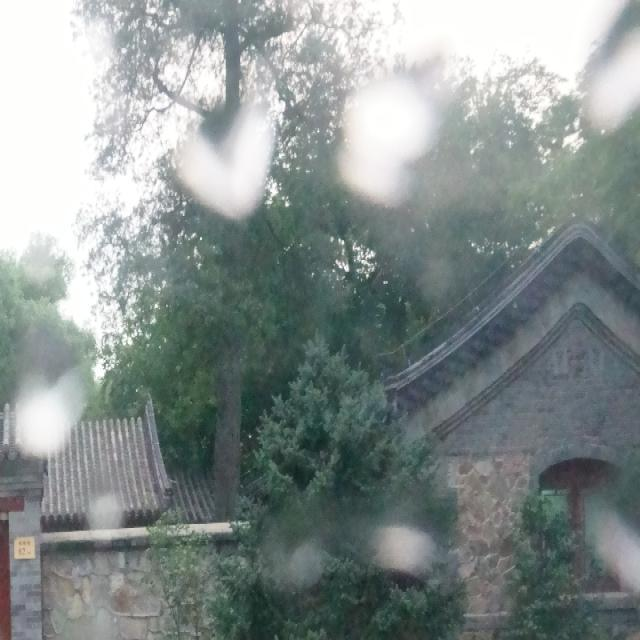raindrop: (338, 80, 456, 205), (0, 331, 96, 466), (171, 105, 277, 226), (366, 482, 446, 590), (245, 506, 332, 604), (589, 31, 640, 142), (580, 504, 640, 595), (10, 214, 74, 296), (88, 484, 126, 532)
